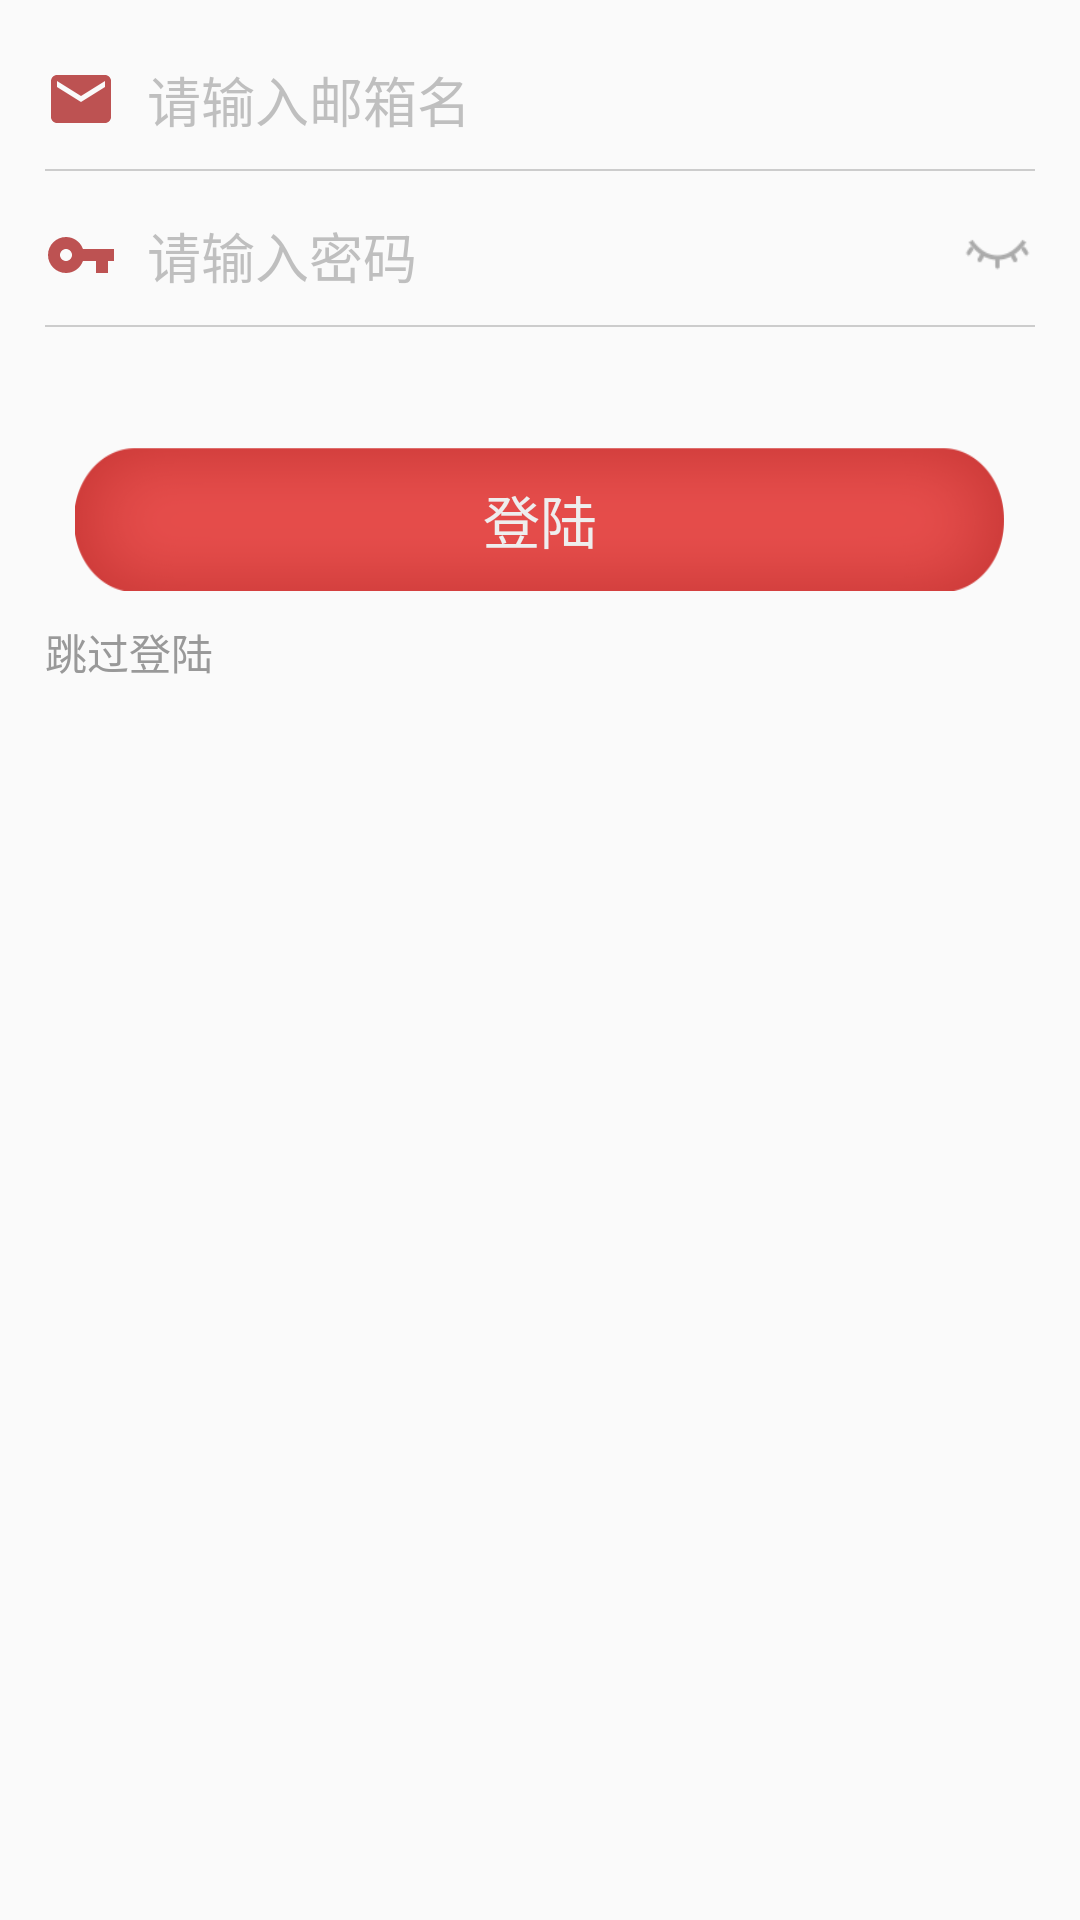

Point at icon controls on the screen. Image size 1080px×1920px, points as point (x, y).
login unseen password: point (997, 254)
